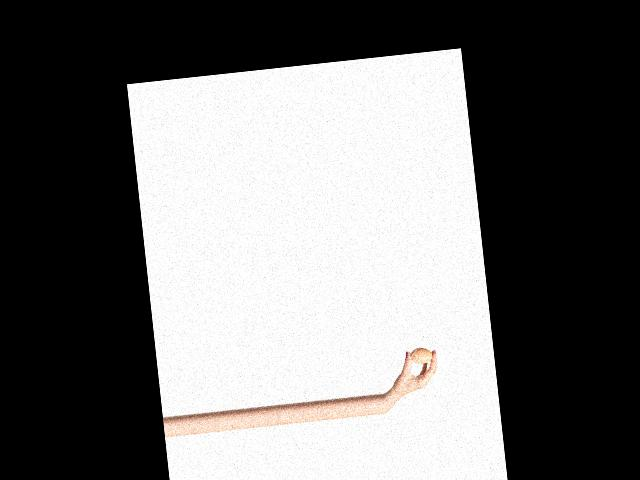egg: (409, 347, 432, 364)
